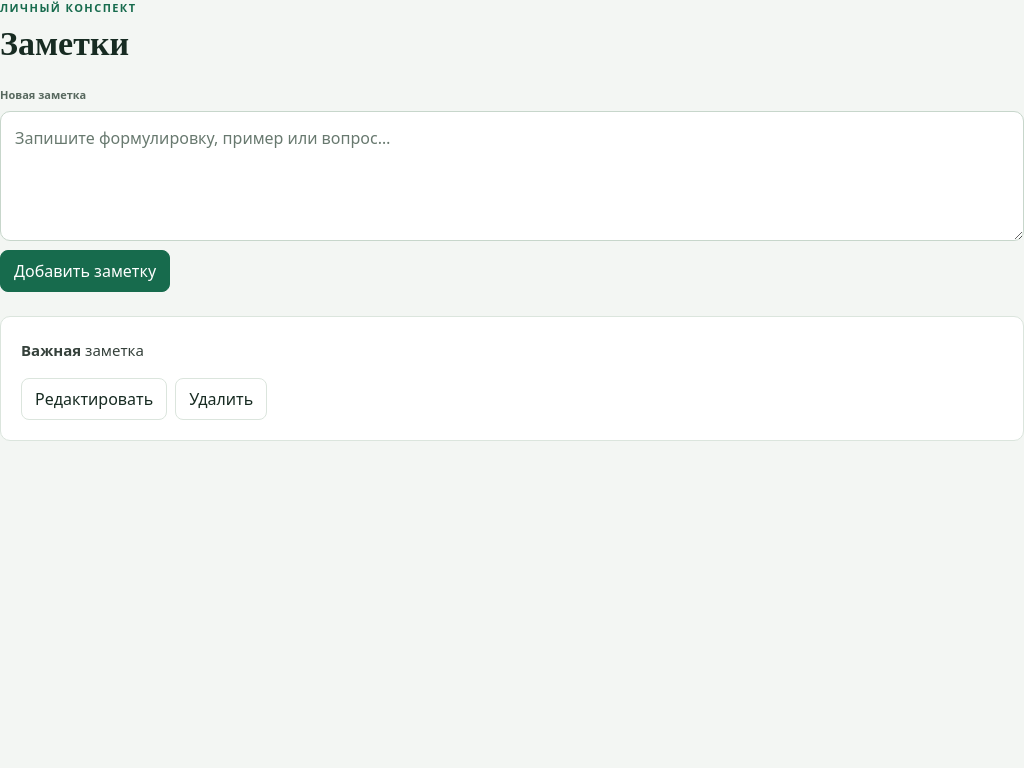
restores the exact note after an optimistic delete failure
Click the button "Удалить": (221, 399) [175,378,267,420]
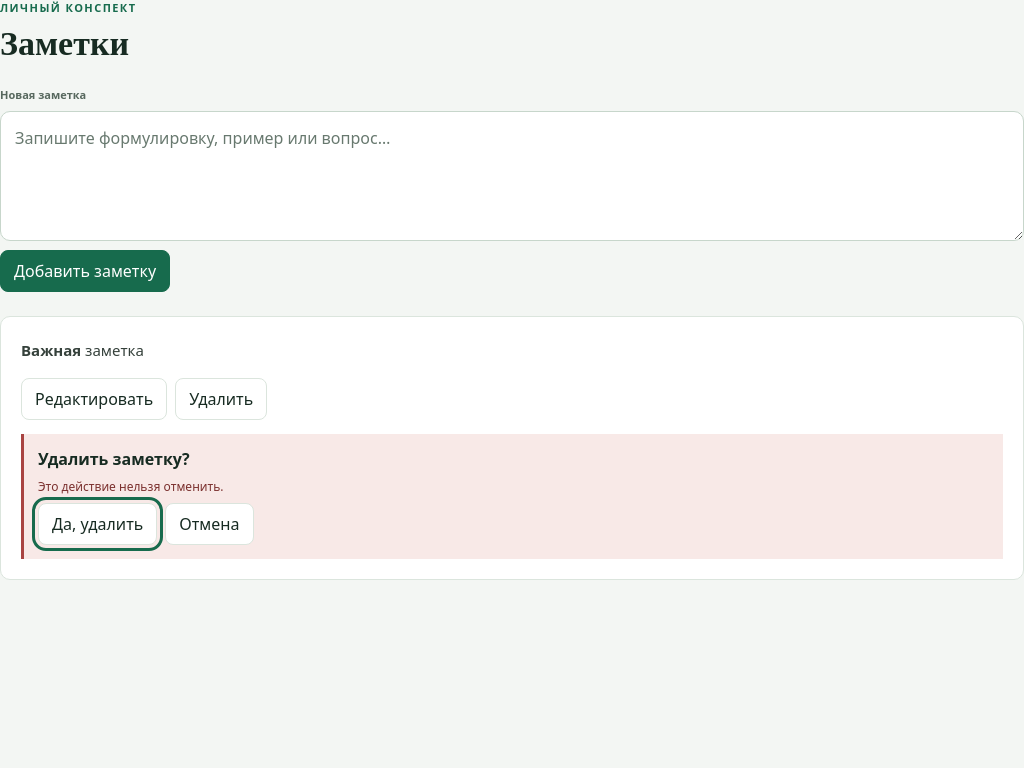
Click the button "Да, удалить": (98, 524) [38,503,157,545]
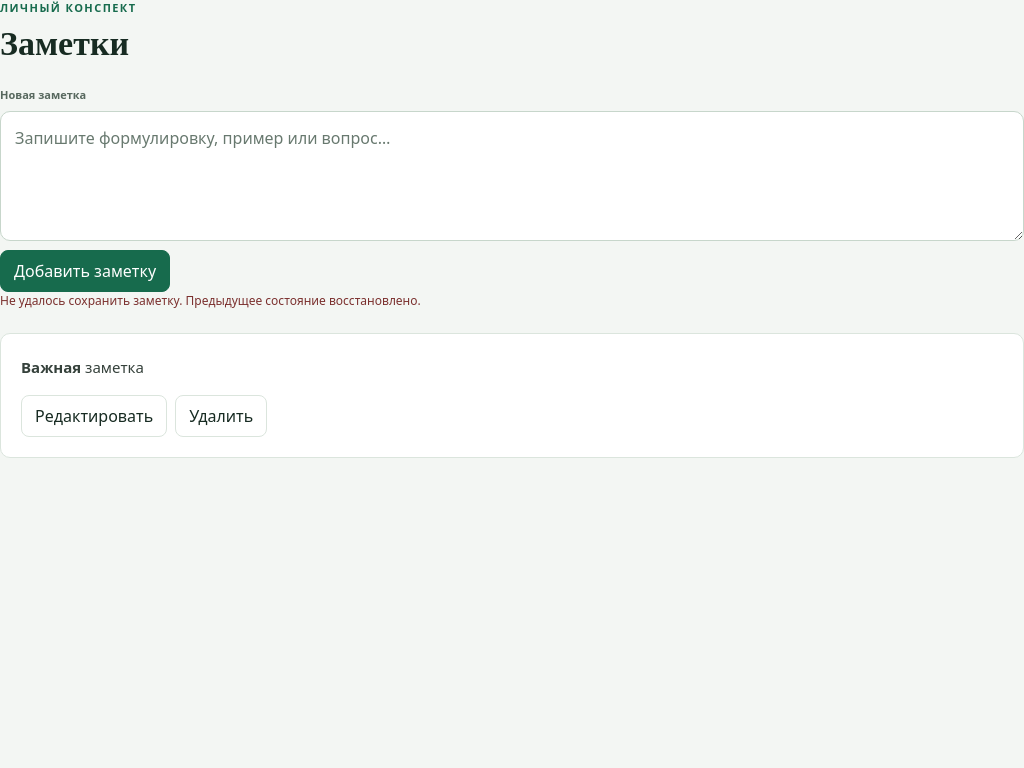
Expected: the text "Важная" is shown, [21,357,81,377]
Expected: the message shows "Предыдущее состояние восстановлено", [0,292,421,309]
